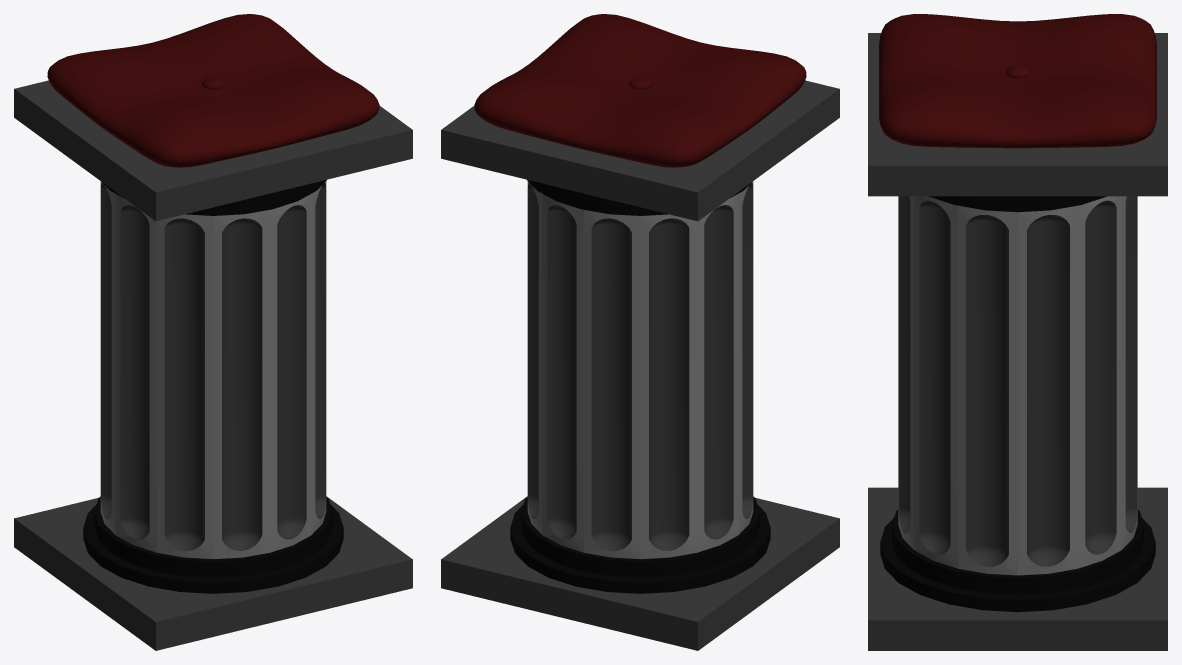
File: SM_Warehouse_Pedastal.fbx
3 views of the same model, side by side, from view 1: azimuth 30°, elevation 25°; view 2: azimuth 150°, elevation 25°; view 3: azimuth 270°, elevation 25° (orthographic). The views are drawn at different scales.
Parts seen in each view (by area): view 1: SM_Warehouse_Pedastal; view 2: SM_Warehouse_Pedastal; view 3: SM_Warehouse_Pedastal.
Part boxes in pixels (x1=…): SM_Warehouse_Pedastal: x1=14, y1=14, x2=412, y2=650; SM_Warehouse_Pedastal: x1=441, y1=14, x2=839, y2=650; SM_Warehouse_Pedastal: x1=868, y1=14, x2=1167, y2=650.
Size of the model in its own units: 45.21 by 83.2 by 43.17.
